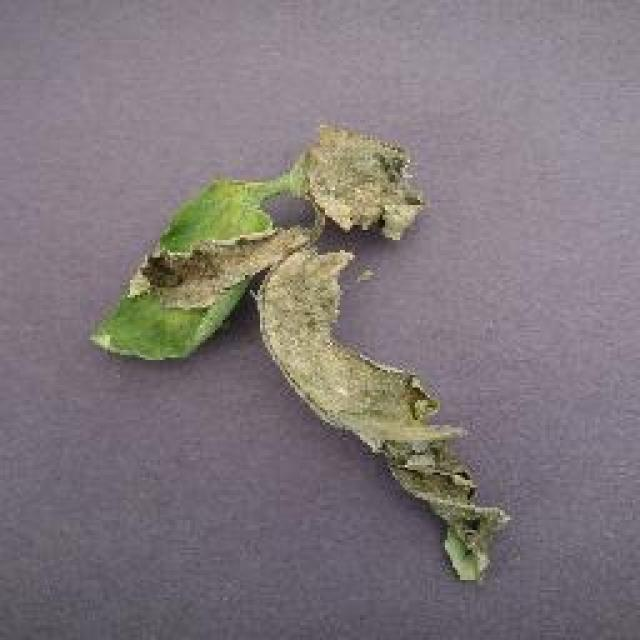Tomato Late Blight: (192, 132, 523, 578)
